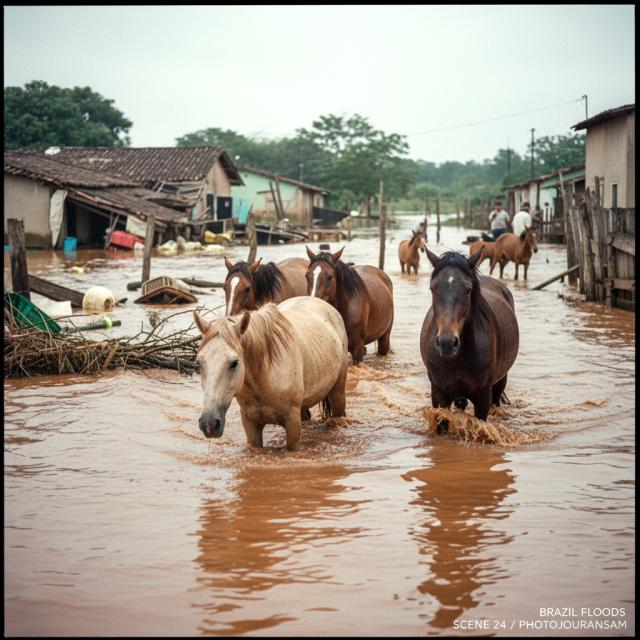civilian: (487, 196, 511, 240)
horse: (186, 299, 358, 459), (419, 239, 521, 439), (302, 243, 402, 369), (220, 250, 315, 326), (492, 223, 543, 283), (467, 235, 515, 282), (396, 225, 430, 275)
